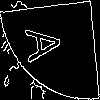A: (25, 25, 71, 64)
